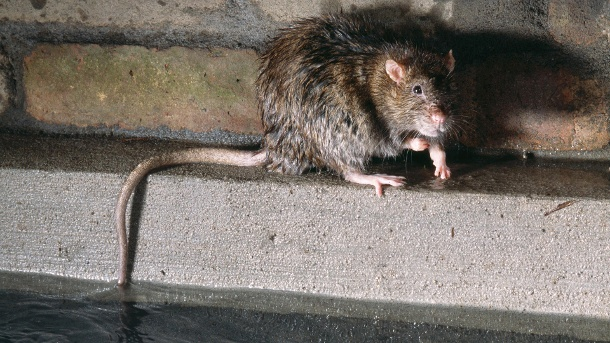rat: (178, 5, 474, 210)
